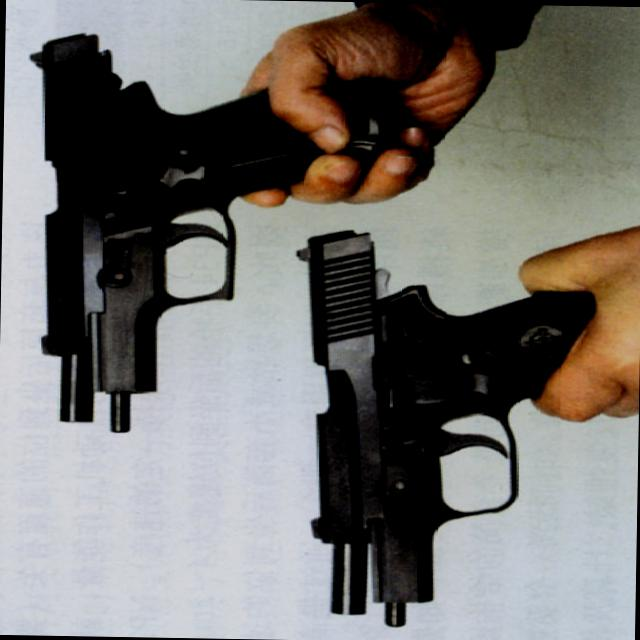handgun: (21, 29, 402, 436), (286, 228, 604, 632)
